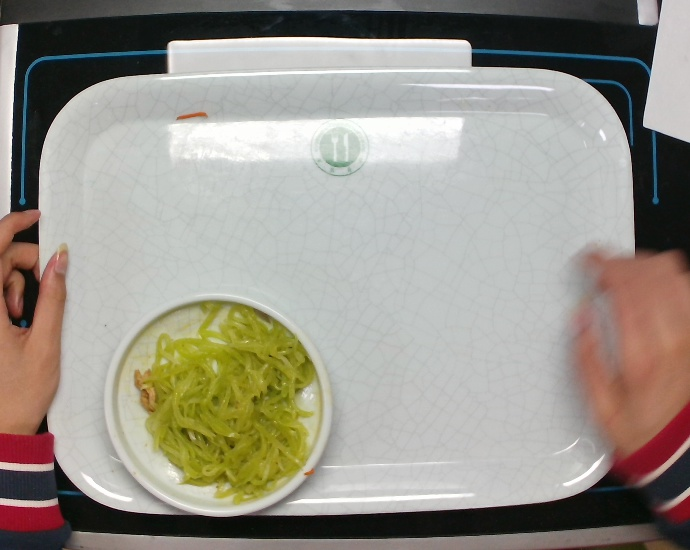JYsf-Xiao_Yuan_Pan: (89, 284, 340, 524)
